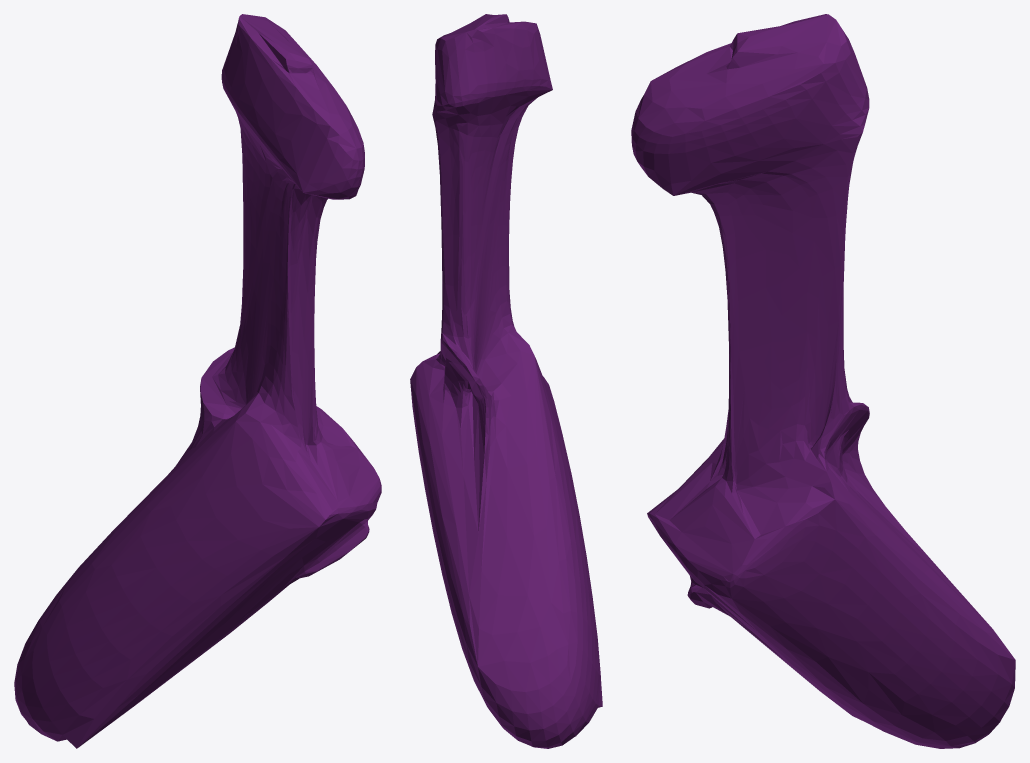
The picture shows the model from 3 angles, left to right: view 1: azimuth 30°, elevation 25°; view 2: azimuth 150°, elevation 25°; view 3: azimuth 270°, elevation 25°; orthographic projection. The views are drawn at different scales.
Visible parts, largest first — view 1: 040_Cube.167; view 2: 040_Cube.167; view 3: 040_Cube.167.
Part boxes in pixels (box(x1,y1,x2,y2)): 040_Cube.167: box(14, 14, 381, 748); 040_Cube.167: box(410, 14, 602, 748); 040_Cube.167: box(631, 14, 1015, 748).
Size of the model in its own units: 7.68 by 19.83 by 8.64.
